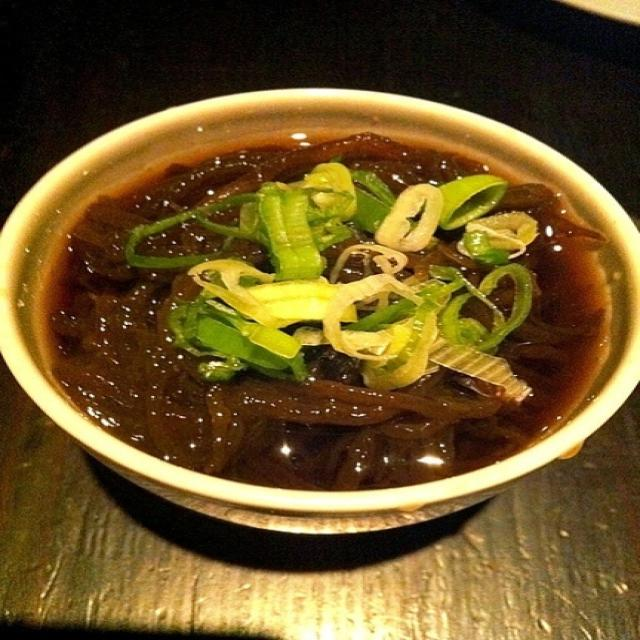蔬菜料理: (24, 82, 606, 536)
